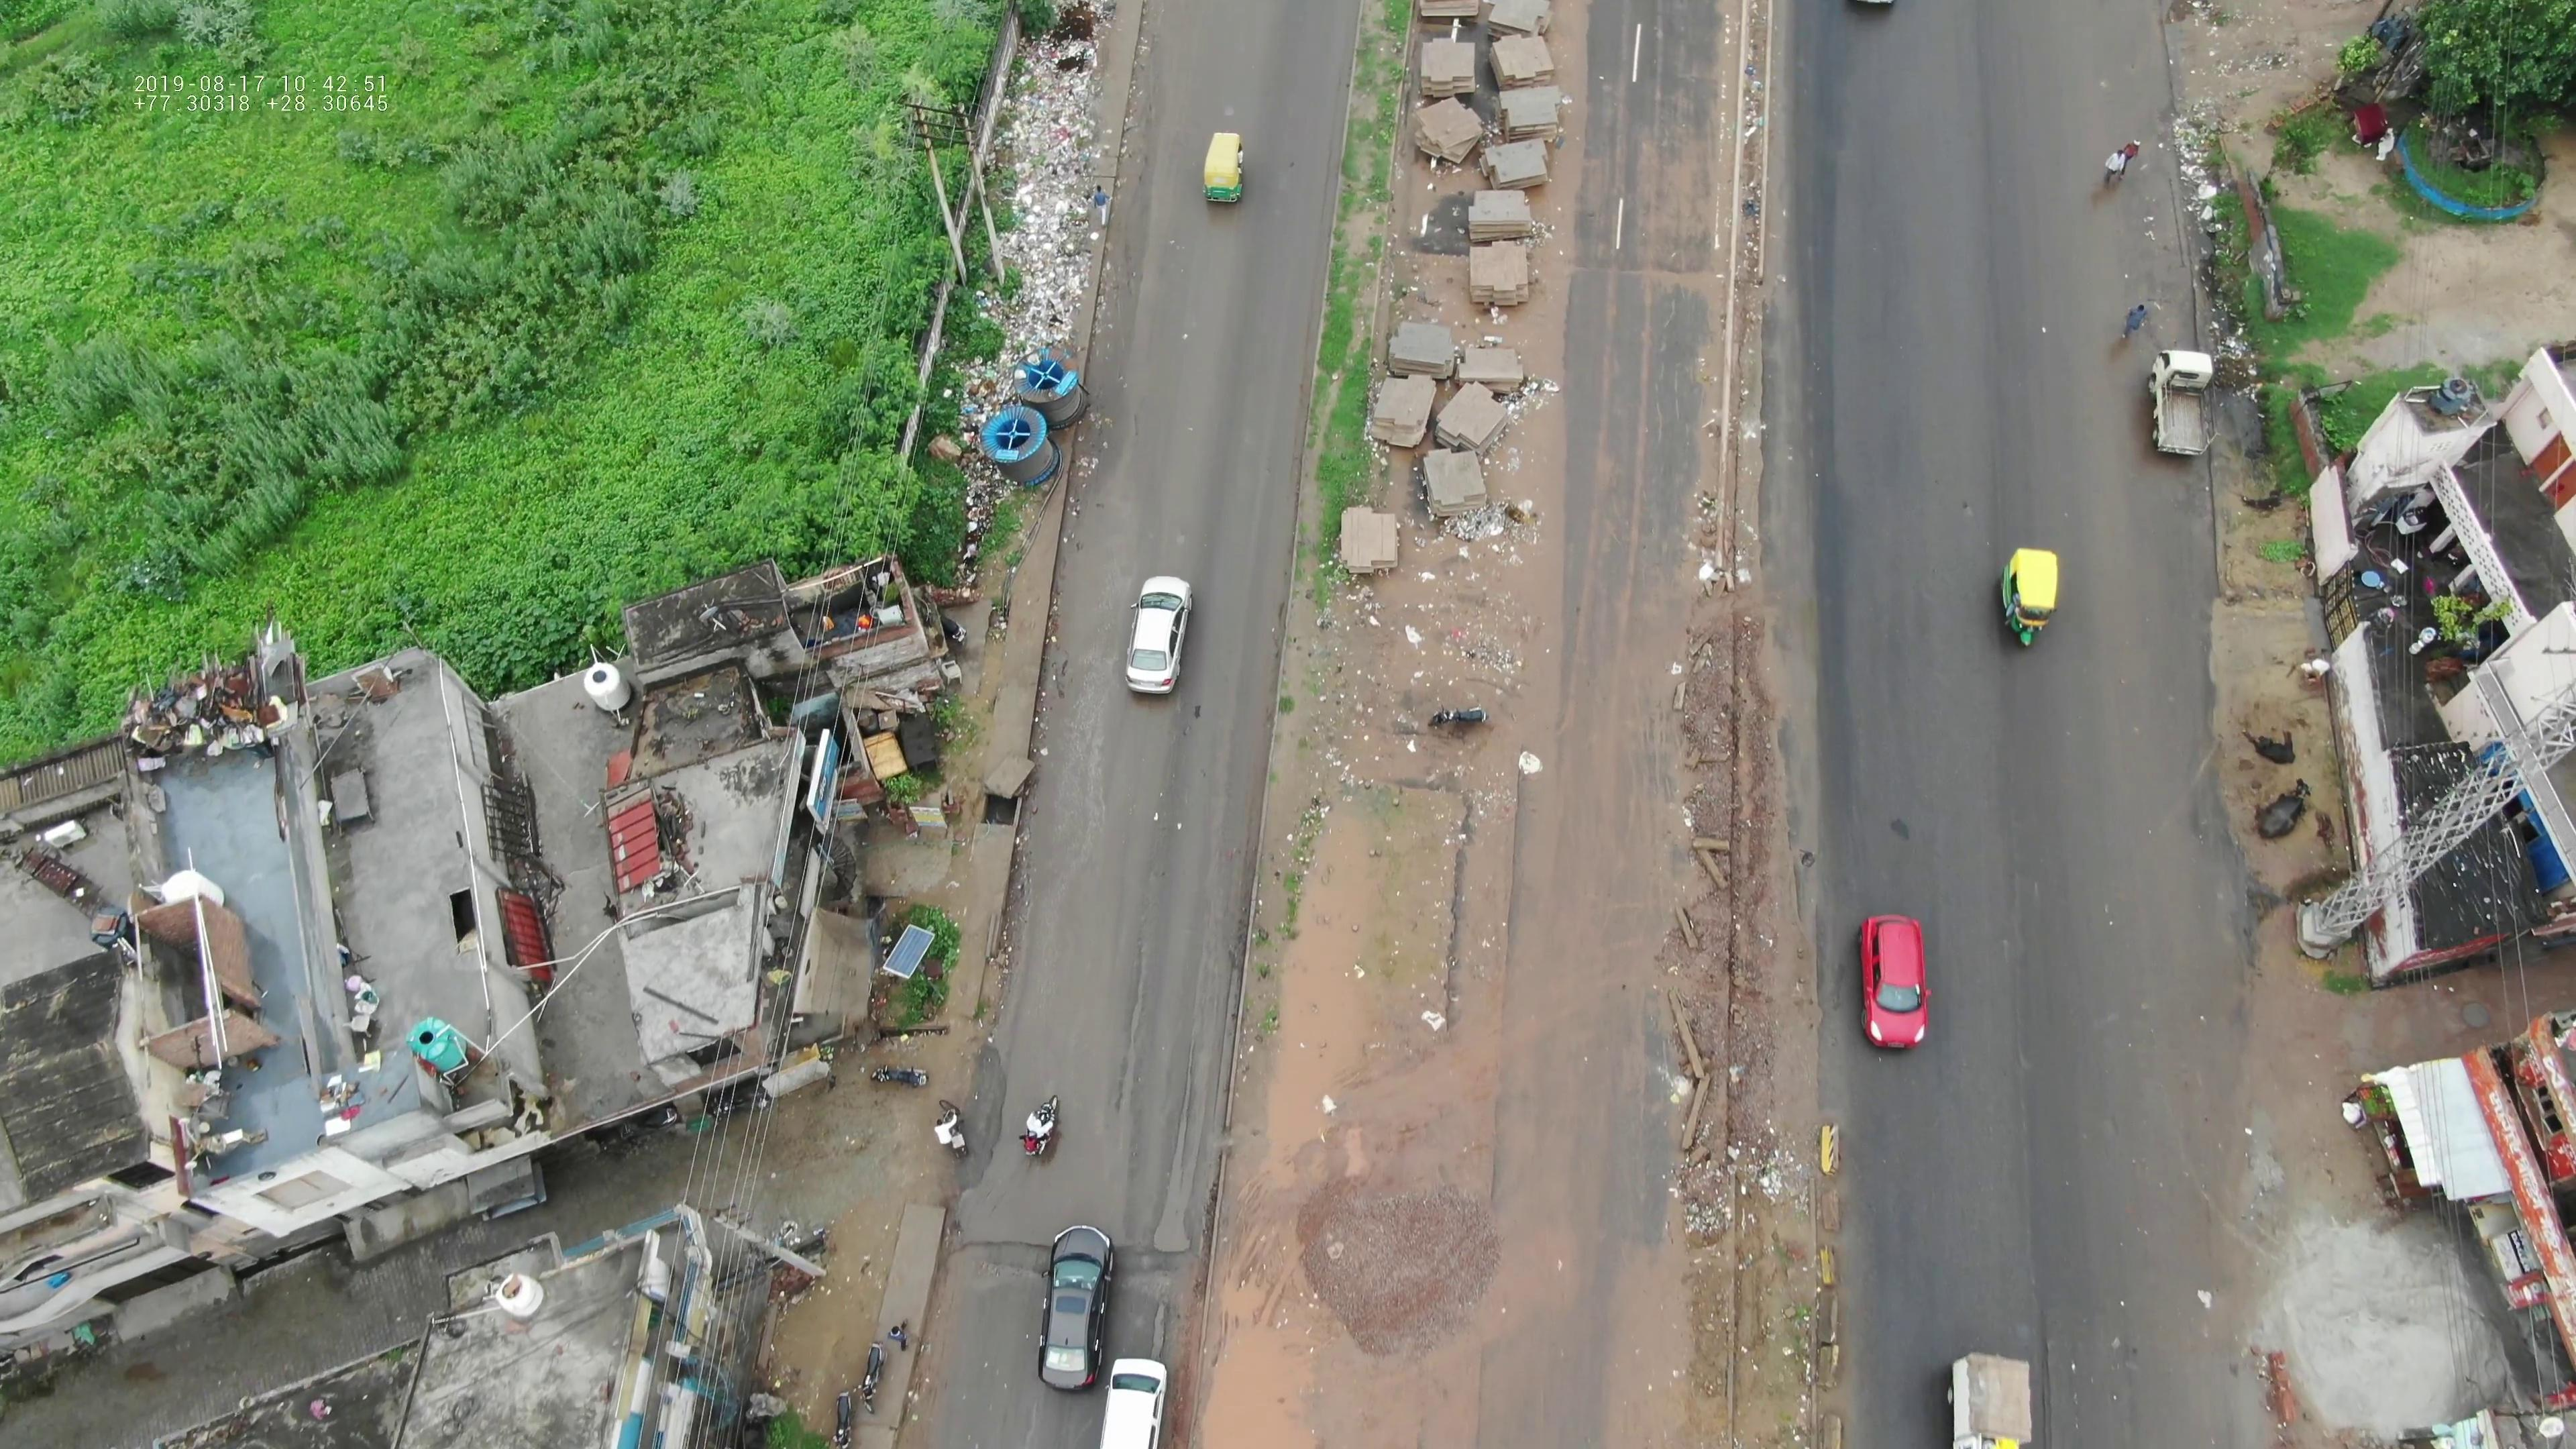Road_side_garbage: (961, 200, 1088, 350), (1000, 0, 1093, 202)
